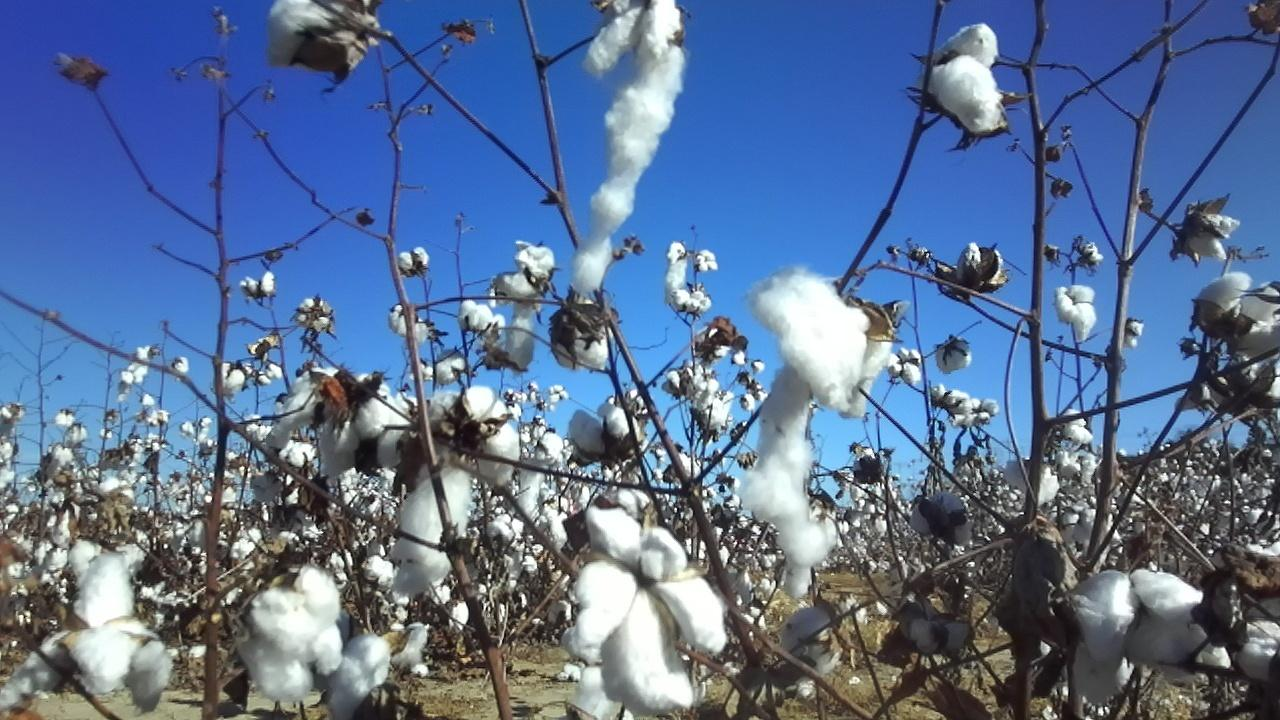cotton_ready: (737, 269, 869, 598), (572, 0, 684, 295), (572, 504, 725, 715), (0, 560, 170, 715), (1072, 574, 1216, 706), (272, 365, 389, 481), (247, 572, 340, 704), (397, 461, 471, 587), (929, 22, 1005, 135), (440, 386, 519, 487), (497, 240, 557, 370), (1197, 274, 1280, 365), (837, 304, 895, 423), (268, 0, 359, 70), (323, 634, 390, 720), (377, 397, 427, 471), (553, 310, 612, 370), (571, 410, 643, 454), (938, 243, 1004, 290), (1232, 623, 1280, 686), (1058, 286, 1097, 340)
